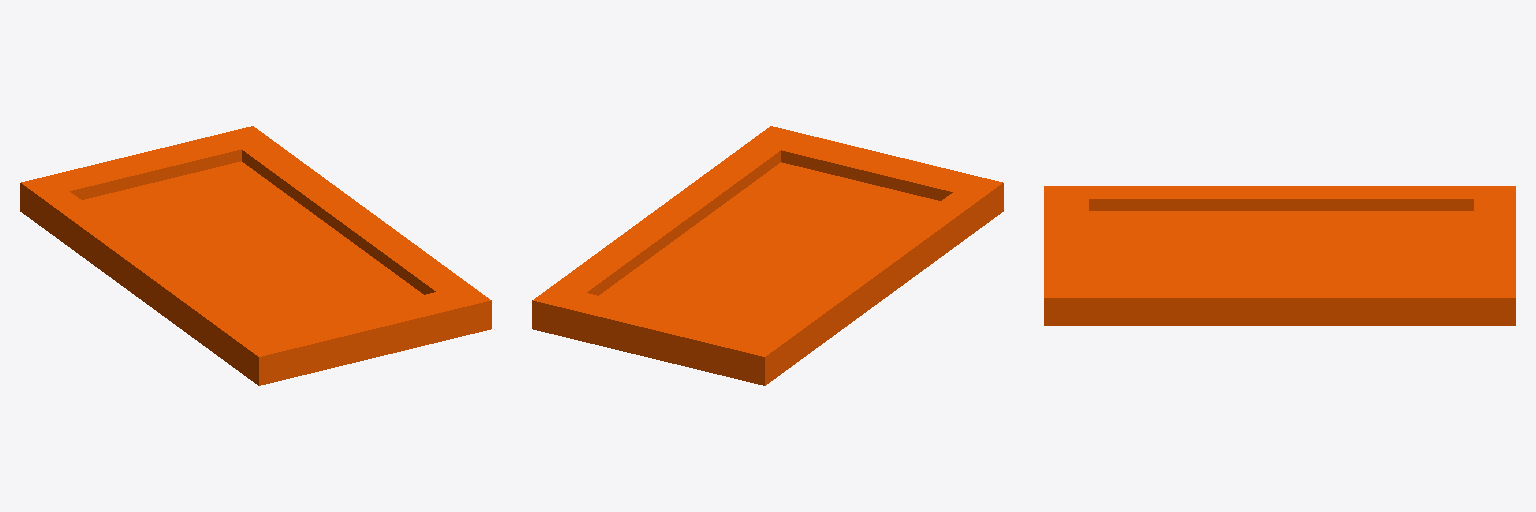
The robot description file, URDF, robot "WallArt_141ec8366ab78901841b1fe31653b9a7":
<?xml version="1.0" ?>
<robot name="WallArt_141ec8366ab78901841b1fe31653b9a7">
   <material name="obj_color">
      <color rgba="1.0 0.423529411765 0.0392156862745 1.0"/>
   </material>
   <link name="top">
      <inertial>
         <origin rpy="0.0008148344093315259 0.002595335330465786 0.003377865160879641" xyz="0.000149690620875 0.001068068240795553 -0.0001245665394422586"/>
         <mass value="0.5645282692073276"/>
         <inertia ixx="0.002595335327618877" ixy="7.711412437811953e-08" ixz="-2.034469571644551e-08" iyy="0.0008149363896019562" iyz="1.6166619349523e-05" izz="0.003377763183456119"/>
      </inertial>
      <visual>
         <origin rpy="0 0 0" xyz="0 0 0"/>
         <geometry>
            <mesh filename="top_watertight_tiny.stl" scale="1 1 1"/>
         </geometry>
         <material name="obj_color"/>
      </visual>
      <collision>
         <origin rpy="0 0 0" xyz="0 0 0"/>
         <geometry>
            <mesh filename="top_watertight_tiny.obj" scale="1 1 1"/>
         </geometry>
      </collision>
   </link>
   <link name="bottom">
      <inertial>
         <origin rpy="1.633333333199431e-08 1.633333333199431e-08 1.633333333362855e-08" xyz="0.3464080000000008 0.3464080000000008 0.3464080000000008"/>
         <mass value="0.0009800000000000017"/>
         <inertia ixx="1.633333333253906e-08" ixy="5.447480642029219e-19" ixz="5.447480642029219e-19" iyy="1.633333333253906e-08" iyz="5.447480642029219e-19" izz="1.633333333253906e-08"/>
      </inertial>
      <visual>
         <origin rpy="0 0 0" xyz="0 0 0"/>
         <geometry>
            <mesh filename="bottom_watertight_tiny.stl" scale="1 1 1"/>
         </geometry>
         <material name="obj_color"/>
      </visual>
   </link>
   <joint name="rotation" type="revolute">
      <origin xyz="0 0 0"/>
      <axis xyz="0 0 -1"/>
      <parent link="bottom"/>
      <child link="top"/>
      <dynamics damping="1.0" friction="1.0"/>
      <limit effort="0.1" velocity="0.1" lower="0" upper="0.001"/>
   </joint>
</robot>

--- What the picture shows (computed from the rendered views, not written in the file) ---
Views: 3 orthographic renders of the robot side by side, from view 1: azimuth 30°, elevation 25°; view 2: azimuth 150°, elevation 25°; view 3: azimuth 270°, elevation 25°.
Model WallArt_141ec8366ab78901841b1fe31653b9a7 with 2 links and 1 joints (1 revolute), rooted at bottom, posed every joint at zero.
Links seen in each view (by area): view 1: top; view 2: top; view 3: top.
Link boxes in pixels (x1,y1,x2,y2): top: (20,126,491,385); top: (532,126,1003,385); top: (1044,186,1515,325).
Size in the robot's own frame: 0.1337 by 0.2373 by 0.0224 metres.
1 mesh visuals loaded from 2 distinct referenced files (1 binary STL); not drawn: 1 (reference not matched to a file when rendering).
